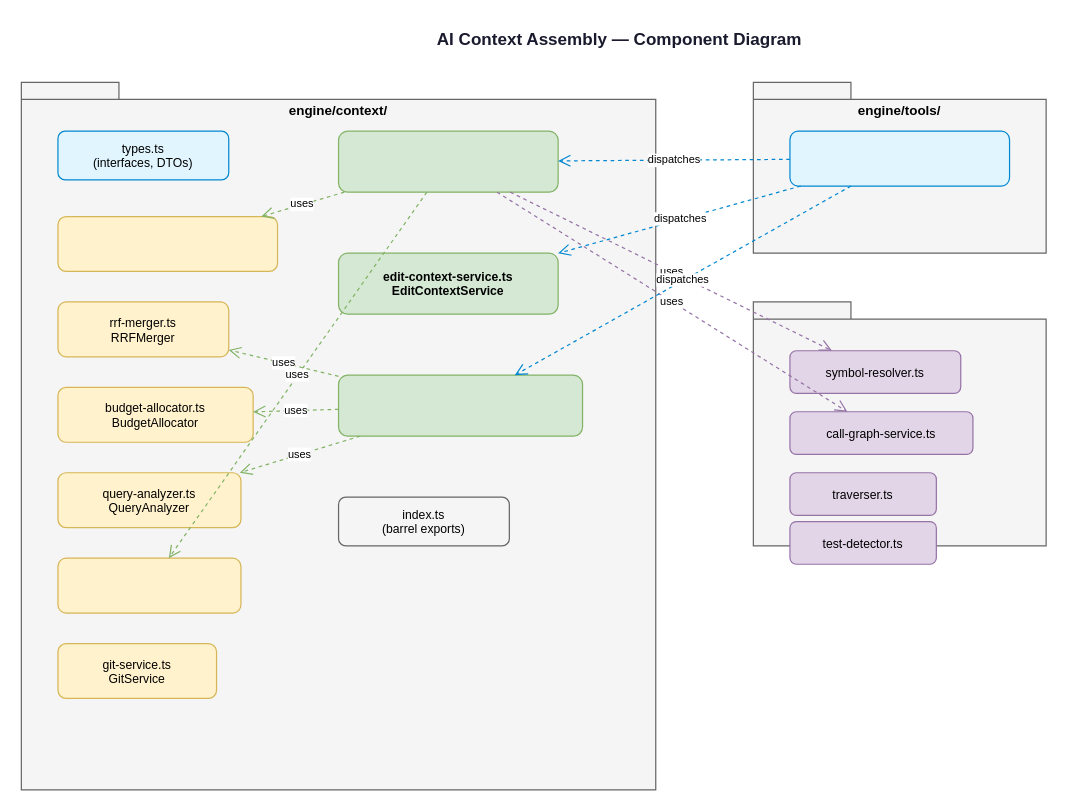
The diagram is 1068 pixels wide and 811 high, and some of its shapes have lost their labels. The box of each missing label's shape, as (x1, y1, x2, y2) in pixels:
ai-context-service.ts AIContextService: (337, 130, 558, 192)
ai-context-tools.ts (definitions + handlers): (789, 130, 1010, 186)
curated-context-service.ts CuratedContextService: (337, 374, 583, 436)
engine/graph/: (752, 301, 1046, 546)
intent-strategies.ts getStrategy(): (57, 557, 241, 613)
token-budget-manager.ts TokenBudgetManager: (57, 215, 278, 271)
